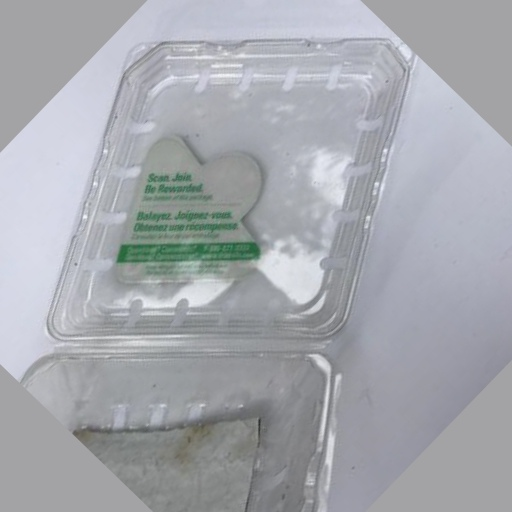Plastic_4: (21, 44, 416, 512)
